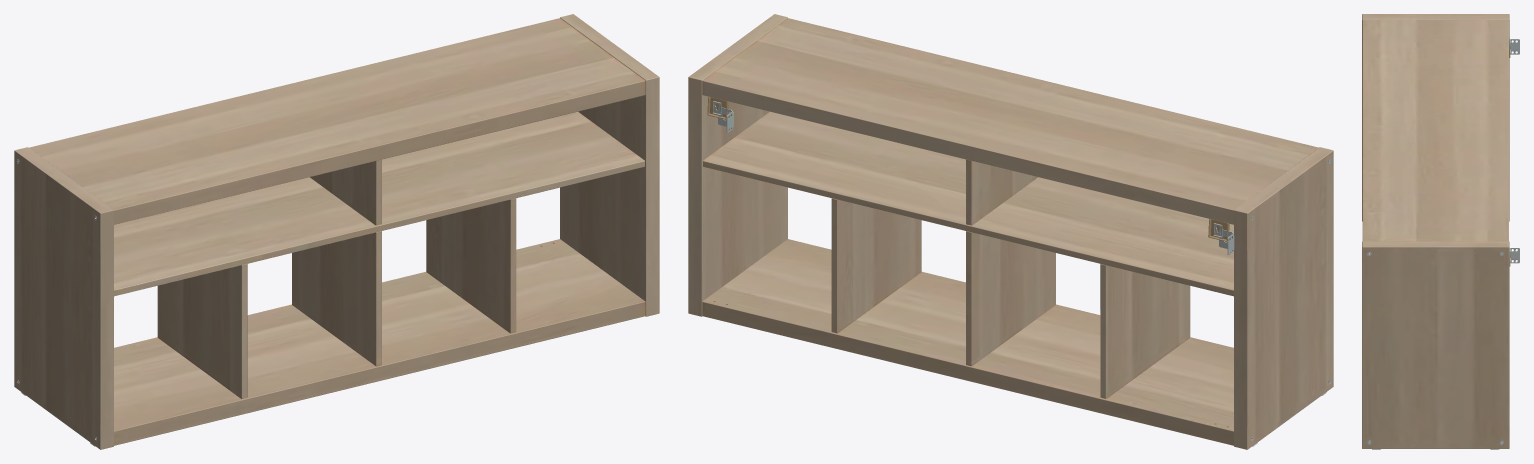
3 renders of one model, left to right at view 1: azimuth 30°, elevation 25°; view 2: azimuth 150°, elevation 25°; view 3: azimuth 270°, elevation 25°, orthographic. The views are drawn at different scales.
Visible parts, largest first — view 1: ASY_ART_80562096_S01_NV01; view 2: ASY_ART_80562096_S01_NV01; view 3: ASY_ART_80562096_S01_NV01.
Boxes of the visible parts, left/top/right/bottom form: ASY_ART_80562096_S01_NV01: left=14, top=14, right=659, bottom=449; ASY_ART_80562096_S01_NV01: left=688, top=14, right=1333, bottom=449; ASY_ART_80562096_S01_NV01: left=1362, top=14, right=1519, bottom=449.
Bounding box in the file's own units: 1.47 × 0.596 × 0.4195.
1 material, 1 textured.
